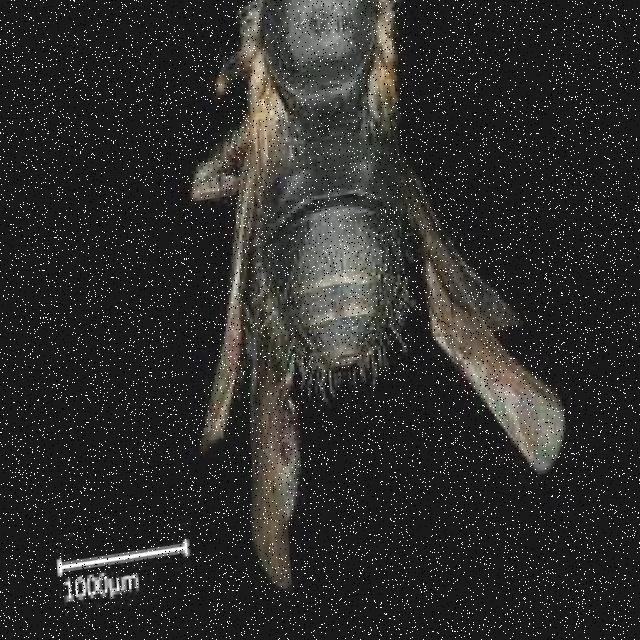Braunsapis: (152, 0, 569, 613)
